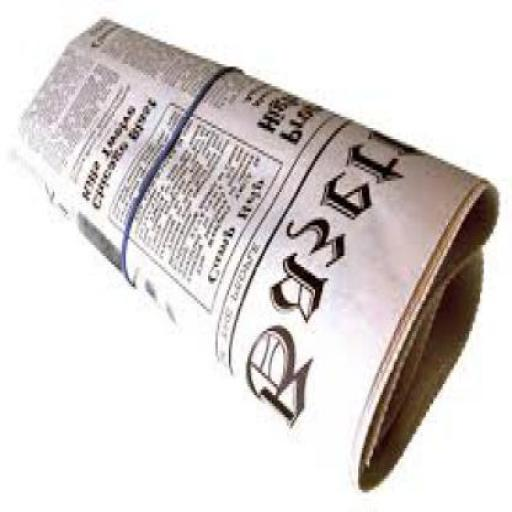paper: (18, 16, 501, 486)
